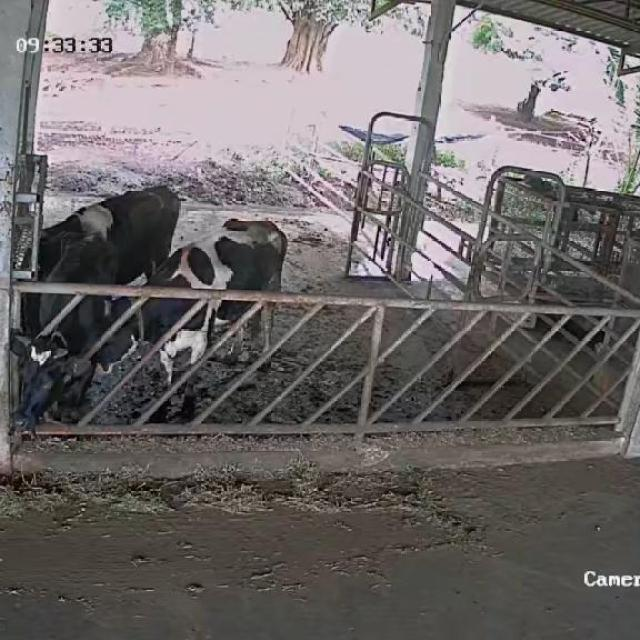drinking: (11, 179, 182, 364)
feeding: (8, 227, 119, 454)
standing: (90, 208, 290, 422)
